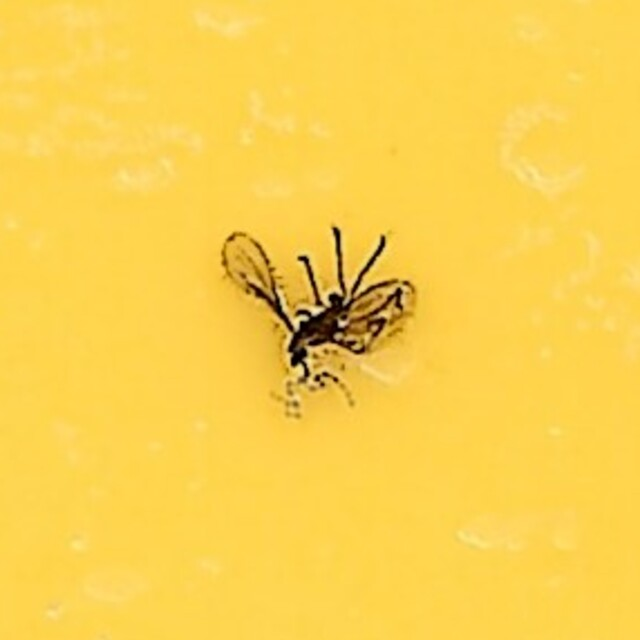Nematocera: (224, 223, 416, 417)
